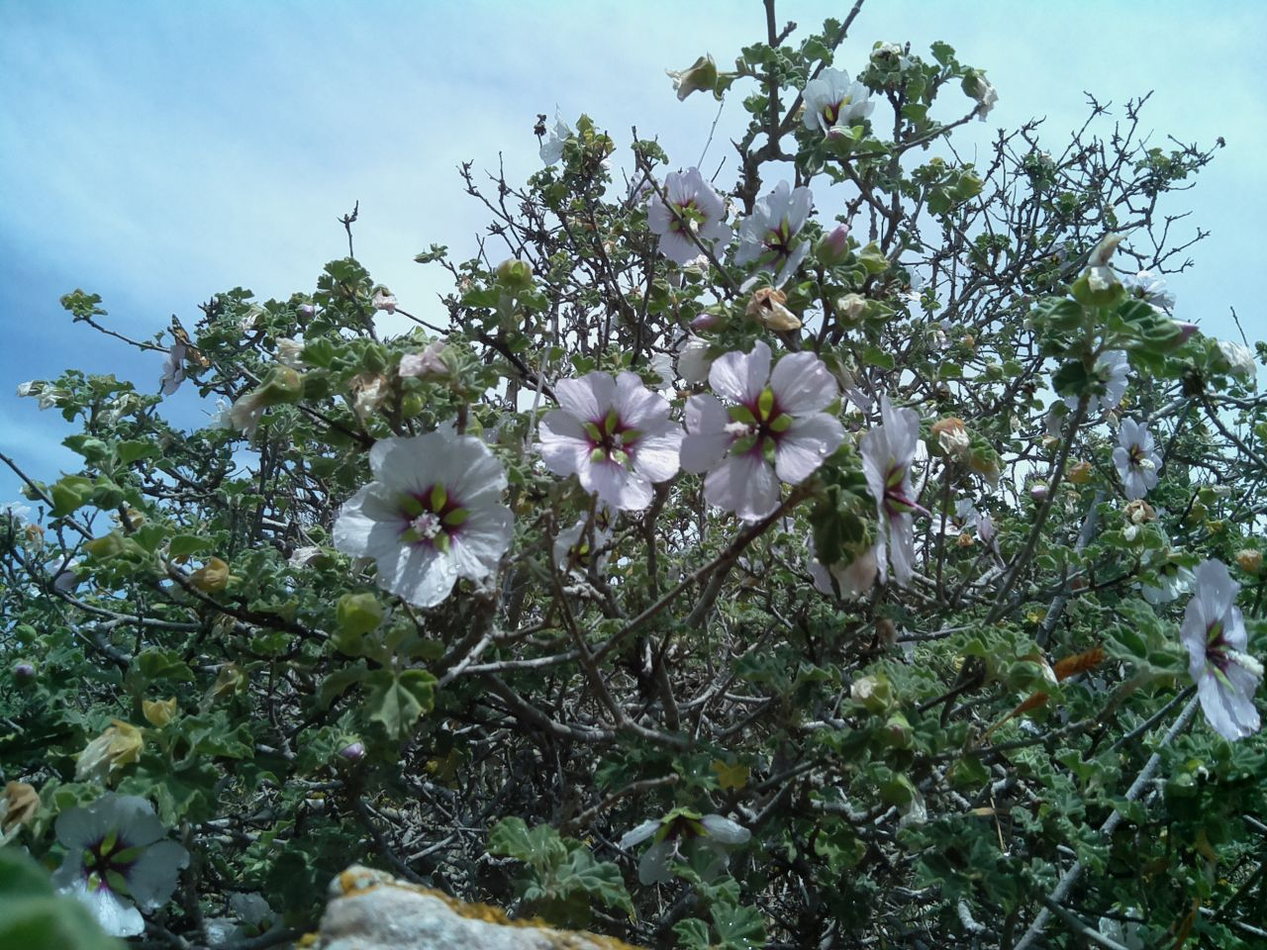Vanessa cardui: (154, 298, 218, 375)
